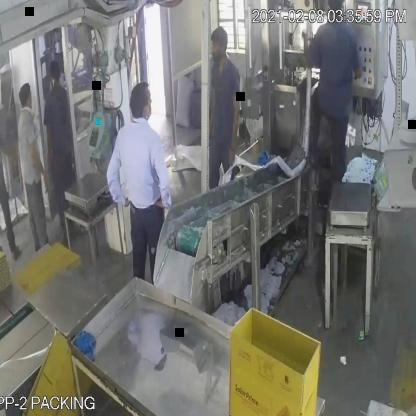no_glove: (226, 75, 249, 175), (152, 147, 178, 222), (109, 142, 131, 214), (28, 135, 50, 201), (0, 126, 22, 175), (205, 70, 219, 145), (41, 119, 59, 174)
